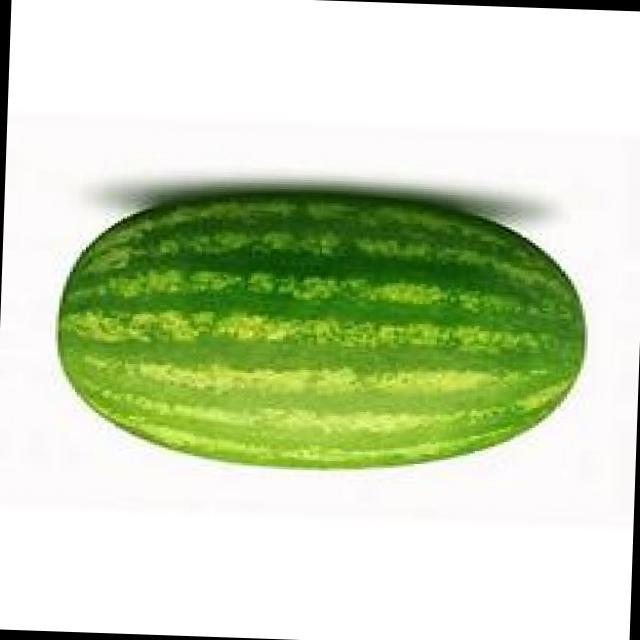watermelon: (58, 190, 585, 468)
